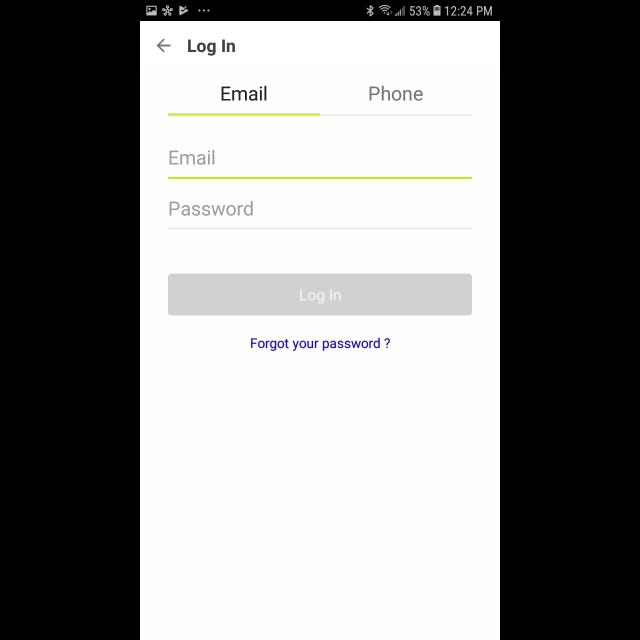icon: (157, 39, 171, 53)
input: (168, 200, 472, 230), (168, 149, 472, 179)
text: (252, 337, 391, 351), (170, 201, 254, 217), (369, 86, 423, 102), (188, 40, 236, 56), (170, 150, 214, 166), (222, 86, 266, 102)
textbutton: (168, 274, 472, 316)
uppertaskbar: (140, 1, 500, 22)
